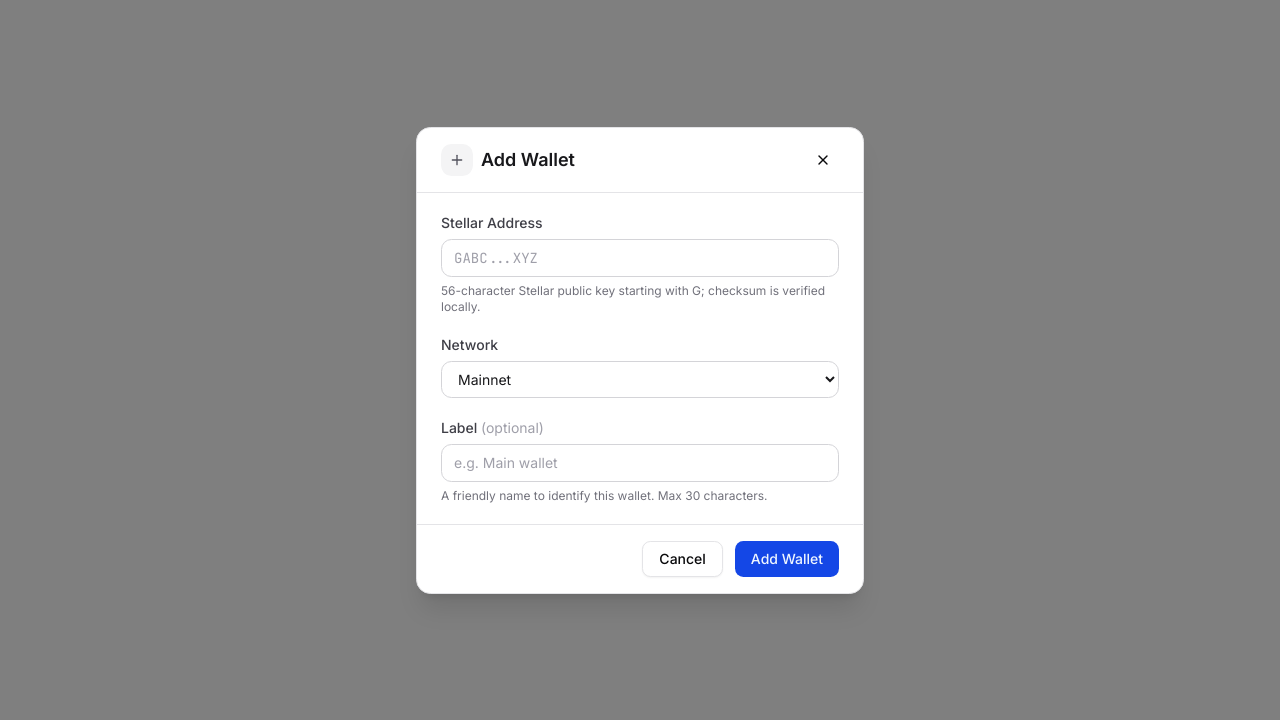
Test: AddWalletModal address validation › shows an error for an address that is too short
Type "GABC" into the field labelled "Stellar Address".
click(640, 258); type("GABC")  # box [441,238,839,276]
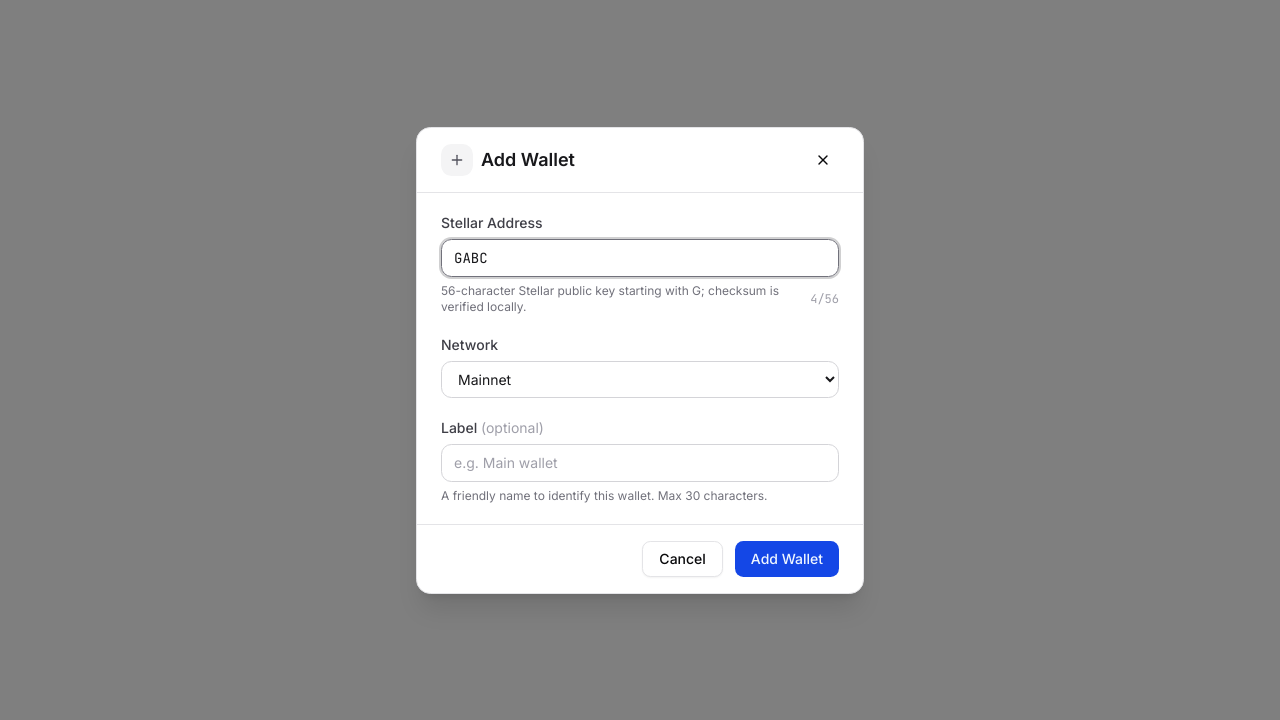
Click the button "Add Wallet".
click(787, 558)  # box [735,540,839,576]
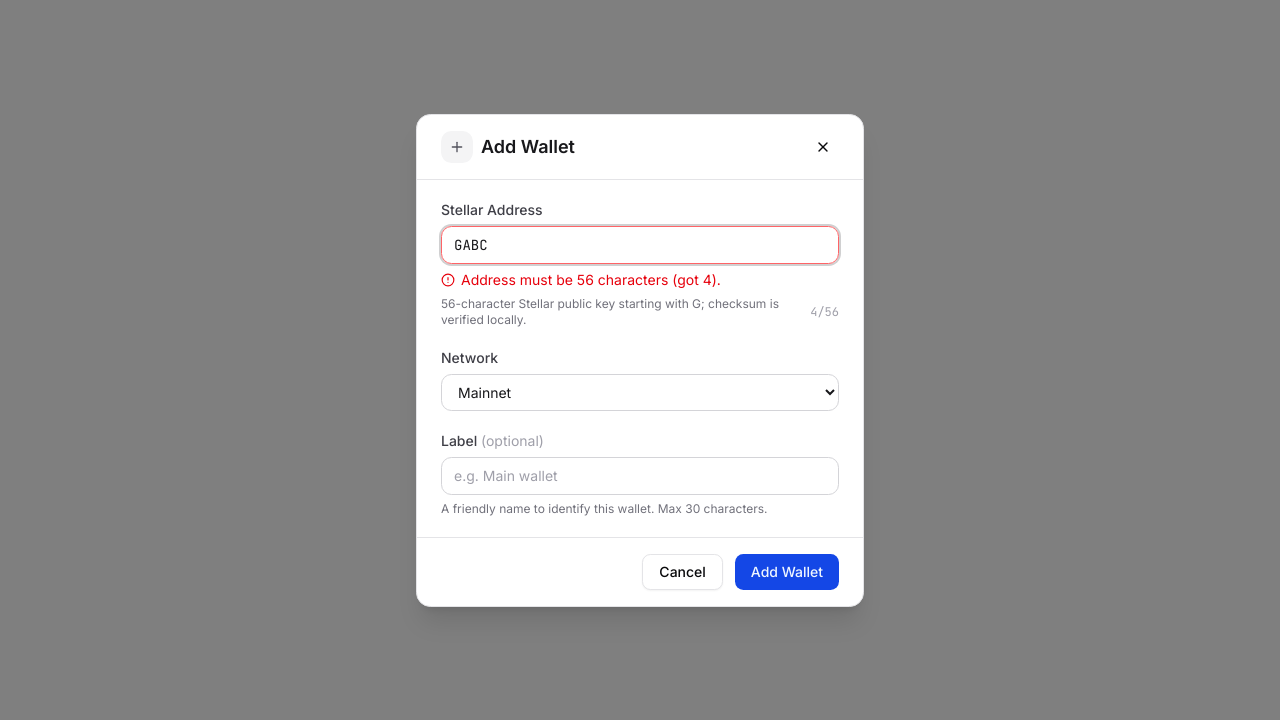
Result: the message shows "56 characters" at [461,270,721,288]
